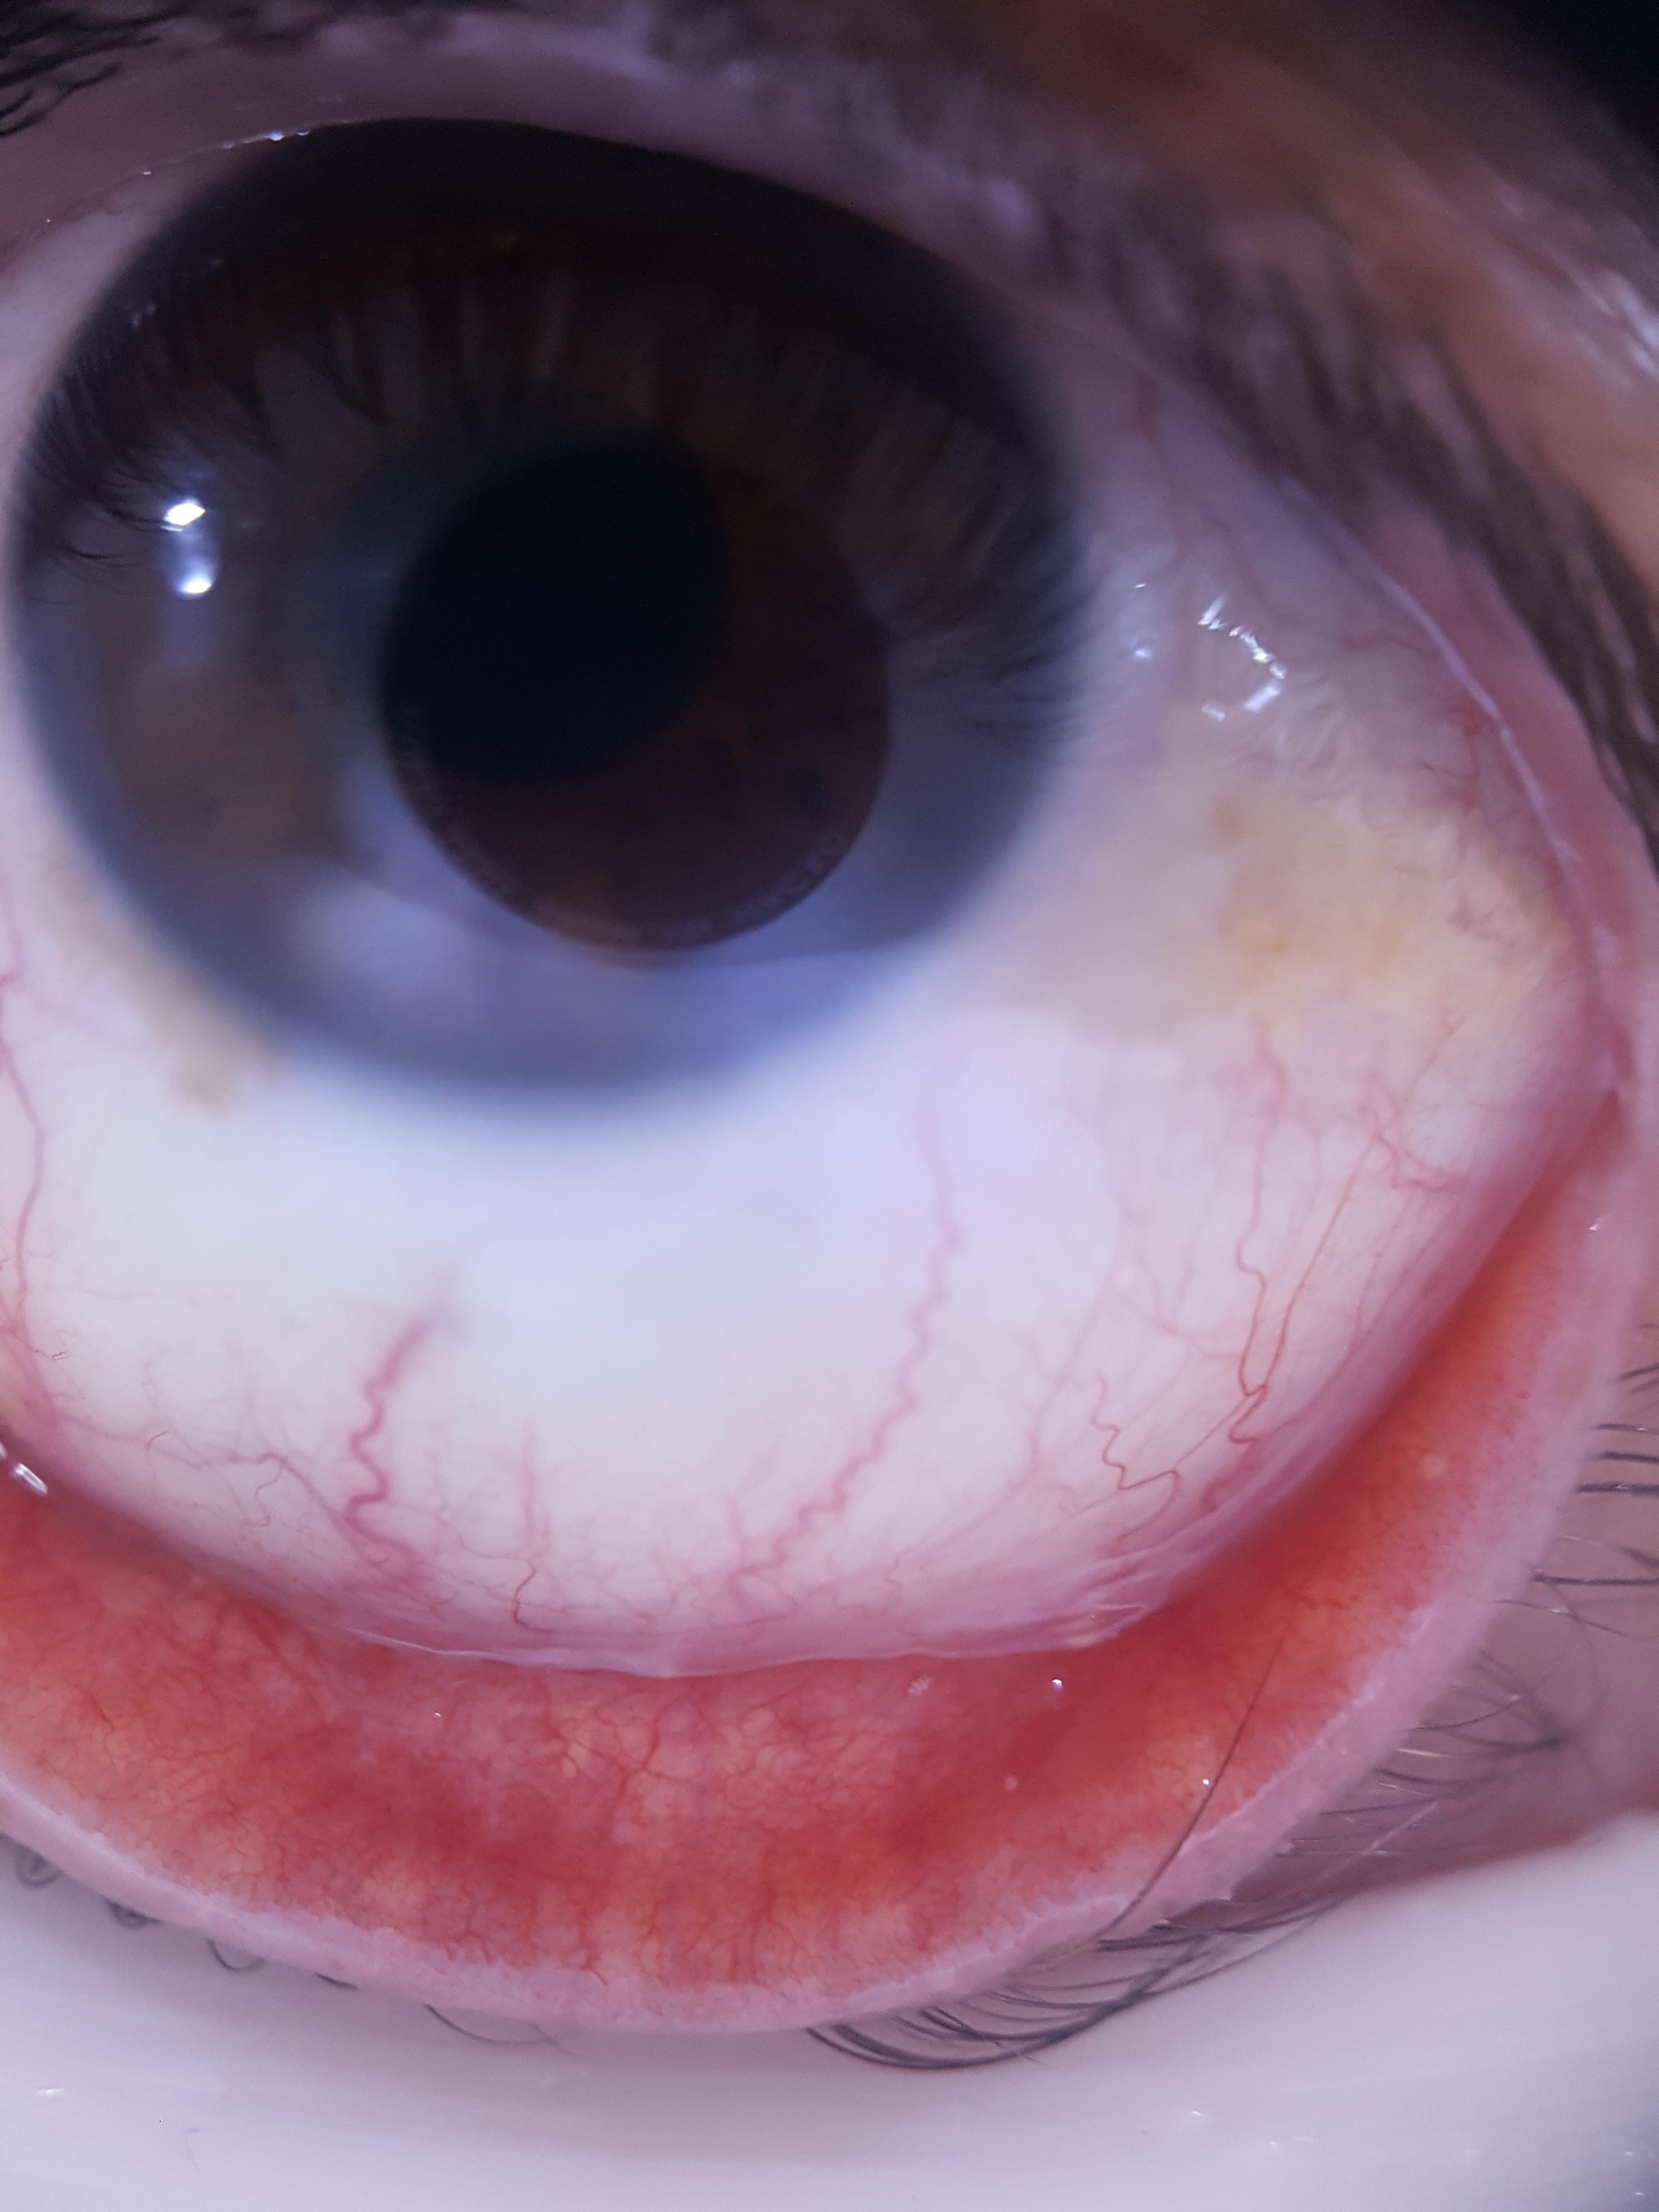forniceal: (0, 1096, 1582, 1804)
forniceal_palpebral: (0, 1089, 1595, 1956)
palpebral: (0, 1228, 1532, 1944)
